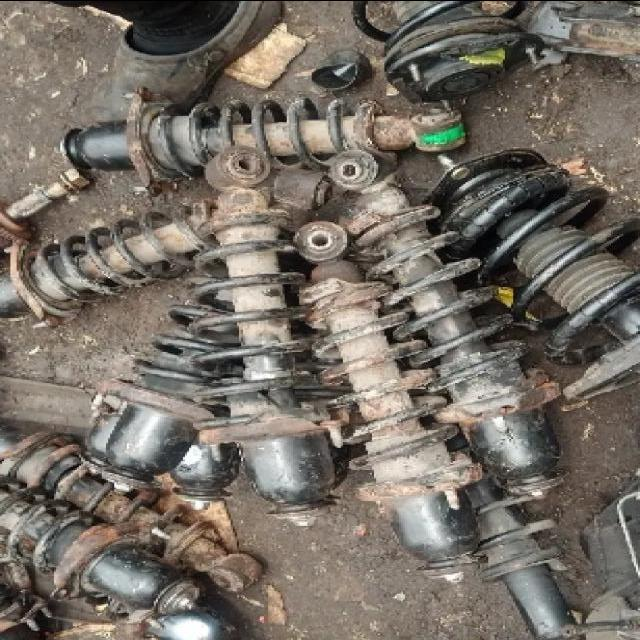shock absorber: (328, 148, 574, 499), (294, 220, 489, 583), (183, 145, 343, 531), (61, 95, 465, 178), (1, 198, 203, 327)
